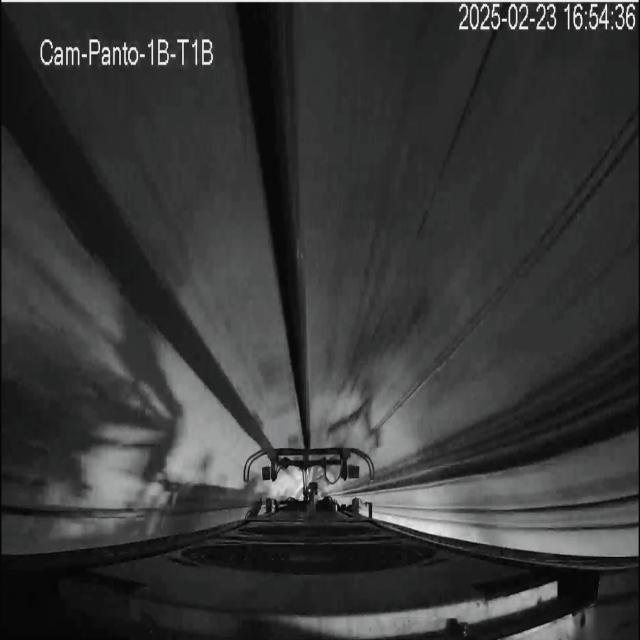Camera Stamp: (35, 28, 221, 71)
Date Stamp: (459, 3, 636, 33)
No - Spark: (244, 446, 375, 515)
